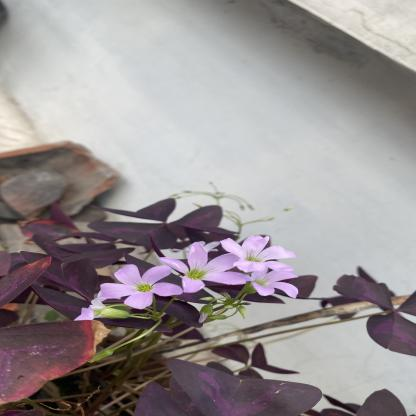Kupu-Kupu: (57, 214, 293, 294), (138, 354, 382, 416), (1, 249, 70, 392), (324, 271, 416, 361)
